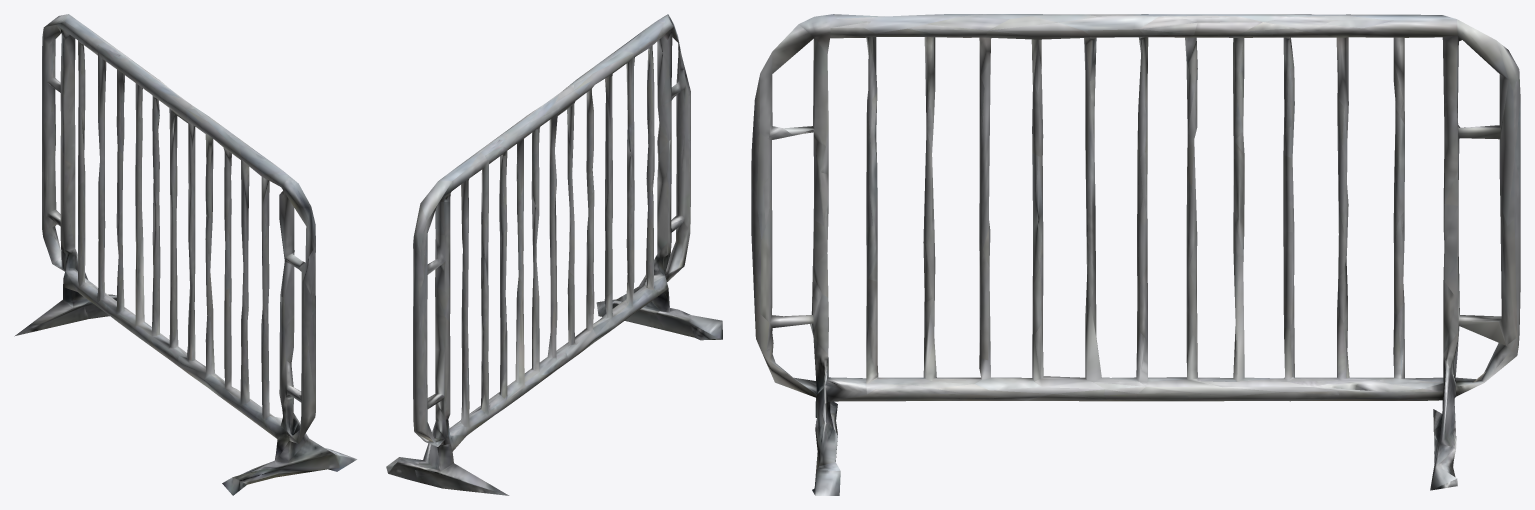
The model's file is absperrgitter.glb.
The picture shows the model from 3 angles, left to right: view 1: azimuth 30°, elevation 25°; view 2: azimuth 150°, elevation 25°; view 3: azimuth 270°, elevation 25°; orthographic projection. The views are drawn at different scales.
Parts seen in each view (by area): view 1: tripo_node_c936b0d1-d91d-4484-ba12-85e175d2becb; view 2: tripo_node_c936b0d1-d91d-4484-ba12-85e175d2becb; view 3: tripo_node_c936b0d1-d91d-4484-ba12-85e175d2becb.
Part boxes in pixels (bbox=[...]): tripo_node_c936b0d1-d91d-4484-ba12-85e175d2becb: bbox=[14, 14, 357, 495]; tripo_node_c936b0d1-d91d-4484-ba12-85e175d2becb: bbox=[386, 14, 722, 495]; tripo_node_c936b0d1-d91d-4484-ba12-85e175d2becb: bbox=[751, 14, 1520, 495].
Bounding box in the file's own units: 0.2788 × 0.6325 × 0.9997.
1 material, 1 textured.
